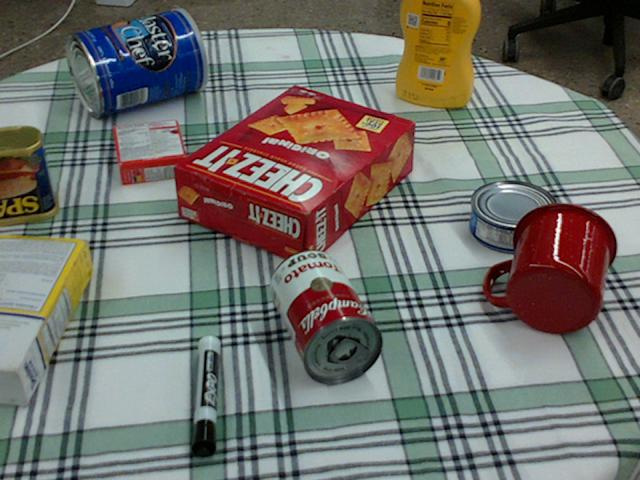cracker_box: (173, 86, 416, 266)
gelatin_box: (113, 119, 188, 186)
large_marker: (189, 336, 220, 460)
master_chef_can: (66, 9, 208, 120)
mug: (486, 200, 617, 333)
mustard_bottle: (395, 0, 480, 108)
potted_meat_can: (0, 125, 60, 225)
sugar_box: (0, 236, 89, 402)
tomato_soup_can: (269, 246, 383, 383)
tuna_fish_can: (471, 179, 560, 252)
